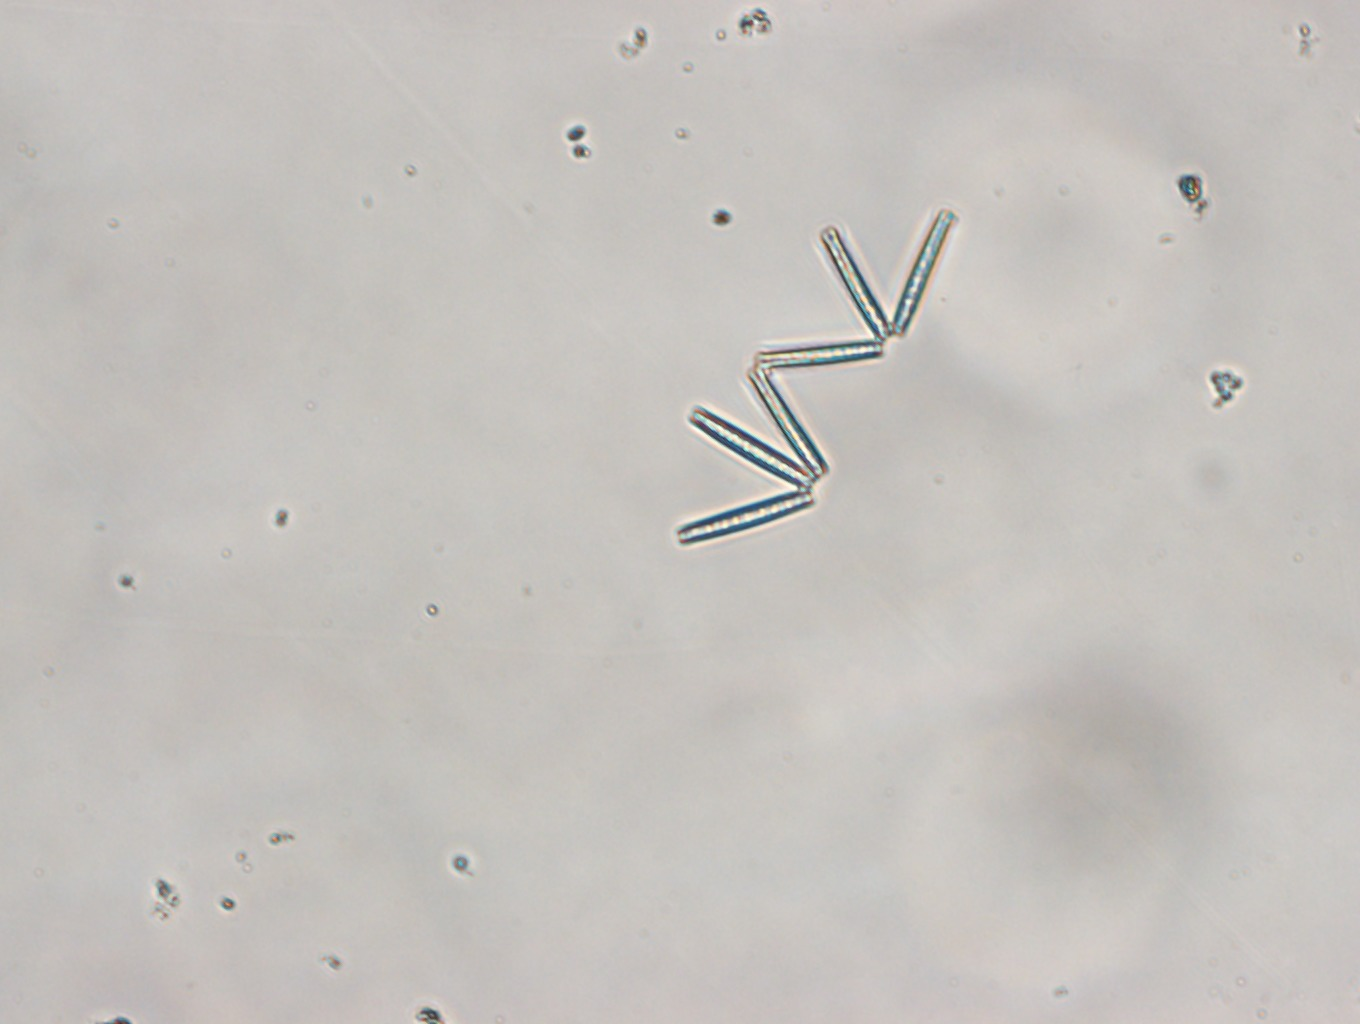thalassionema nitzschioides: (673, 203, 957, 547)
